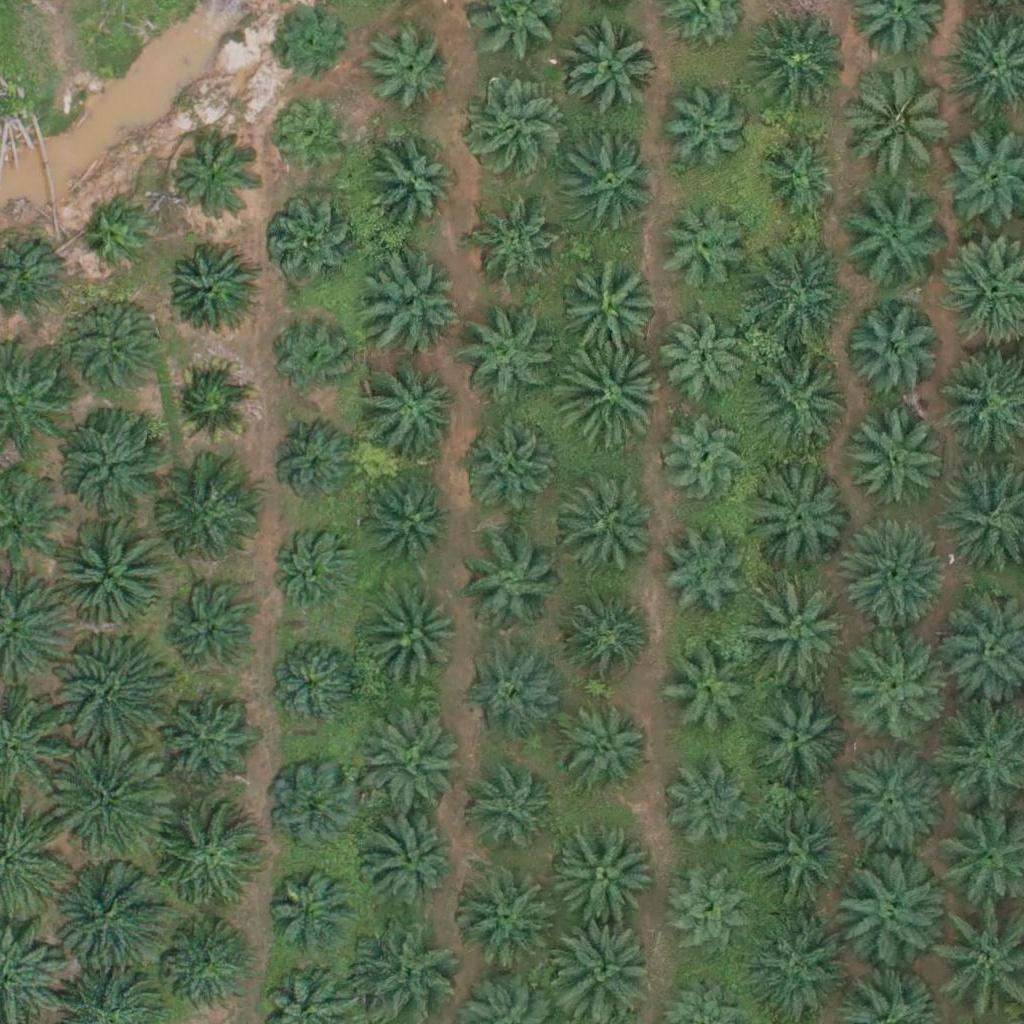Kelapa_Sawit: (827, 861, 940, 974), (836, 185, 949, 298), (838, 520, 951, 633), (744, 582, 857, 695), (742, 340, 855, 453), (743, 240, 856, 353), (56, 744, 169, 857), (56, 633, 169, 746), (55, 515, 168, 628), (56, 400, 169, 513), (448, 864, 560, 978), (742, 796, 854, 910), (553, 339, 665, 453), (357, 705, 469, 819), (60, 858, 172, 972), (837, 749, 949, 862), (546, 818, 658, 931), (152, 459, 264, 572), (154, 809, 266, 922), (846, 69, 958, 182), (841, 303, 941, 404), (849, 407, 949, 508), (845, 644, 945, 745), (741, 688, 841, 789), (752, 471, 852, 572), (551, 696, 651, 797), (564, 263, 664, 364), (456, 311, 556, 412), (458, 421, 558, 522), (463, 765, 563, 866), (363, 357, 463, 458), (263, 757, 363, 858), (155, 697, 255, 798), (464, 77, 564, 178), (356, 18, 456, 119), (552, 474, 652, 574), (461, 531, 561, 631), (461, 655, 561, 755), (362, 138, 462, 238), (365, 254, 465, 354), (366, 591, 466, 691), (359, 812, 459, 912), (264, 636, 364, 736), (64, 292, 164, 392), (746, 15, 846, 115), (560, 17, 660, 117), (559, 132, 659, 232), (158, 923, 246, 1011), (655, 207, 743, 295), (659, 319, 747, 407), (664, 645, 752, 733), (669, 765, 757, 853), (557, 590, 645, 678), (478, 208, 566, 296), (365, 474, 453, 562), (264, 866, 352, 954), (266, 95, 354, 183), (270, 313, 358, 401), (271, 425, 359, 513), (271, 530, 359, 618), (755, 128, 843, 216), (661, 416, 748, 504), (662, 535, 749, 623), (664, 870, 751, 958), (268, 196, 355, 284), (170, 137, 257, 225), (166, 242, 253, 330), (166, 360, 253, 448), (163, 581, 250, 669), (662, 82, 749, 170), (82, 199, 157, 275)
